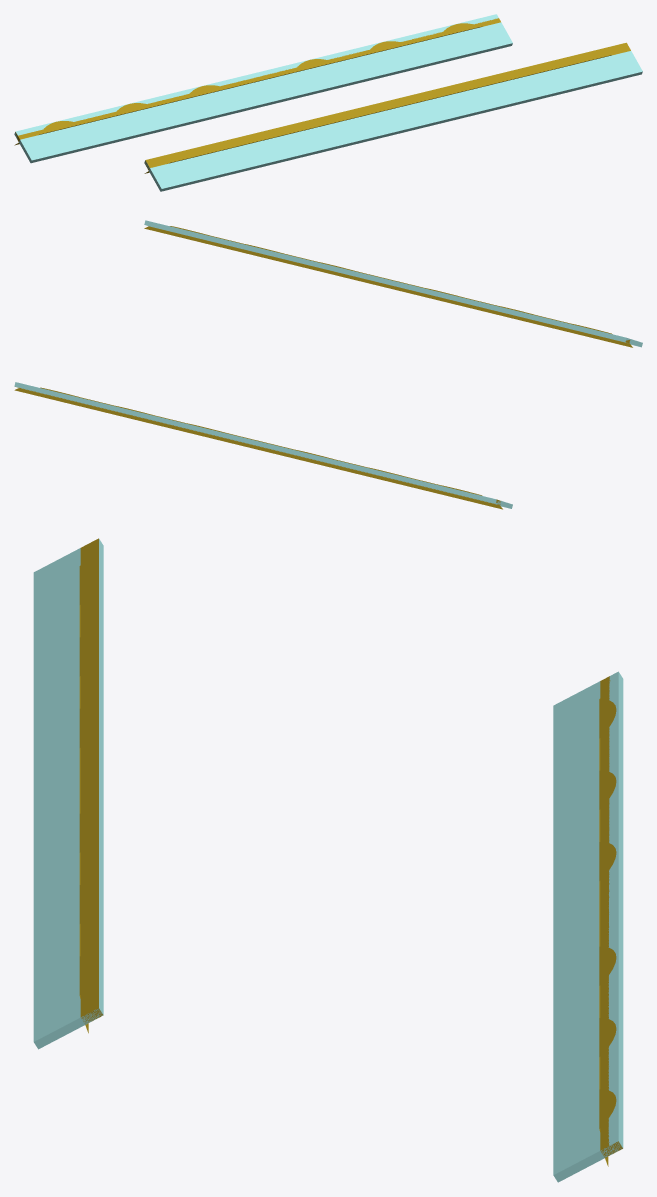
File: wine_rack_stoppers.obj
3 renders of one model, top to bottom at view 1: azimuth 30°, elevation 25°; view 2: azimuth 150°, elevation 25°; view 3: azimuth 270°, elevation 25°, orthographic. The views are drawn at different scales.
Visible parts, largest first — view 1: WineRackBasic; view 2: WineRackBasic; view 3: WineRackBasic.
Part boxes in pixels (bbox=[...]): WineRackBasic: bbox=[14, 14, 642, 191]; WineRackBasic: bbox=[14, 220, 642, 509]; WineRackBasic: bbox=[33, 538, 623, 1182].
Size of the model in its own units: 60 by 10.28 by 31.3.
